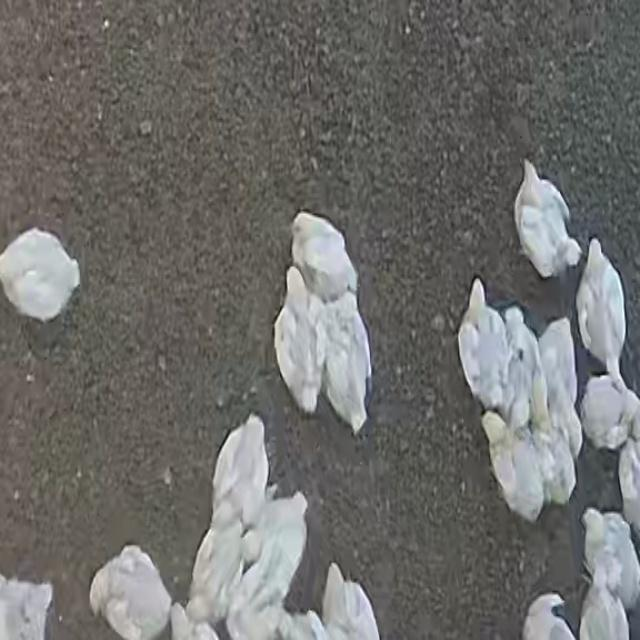chicken: (508, 158, 582, 281), (455, 278, 519, 419), (271, 266, 329, 418), (532, 317, 582, 493), (90, 545, 174, 640), (0, 225, 79, 326), (480, 407, 549, 522), (208, 414, 270, 535), (323, 296, 372, 438), (577, 238, 628, 373), (190, 511, 252, 622), (502, 306, 549, 442), (251, 490, 309, 596), (288, 212, 355, 297), (581, 507, 638, 601), (321, 562, 384, 640), (228, 556, 280, 640), (579, 377, 633, 451), (0, 573, 56, 640), (579, 575, 628, 640), (517, 592, 573, 640)
